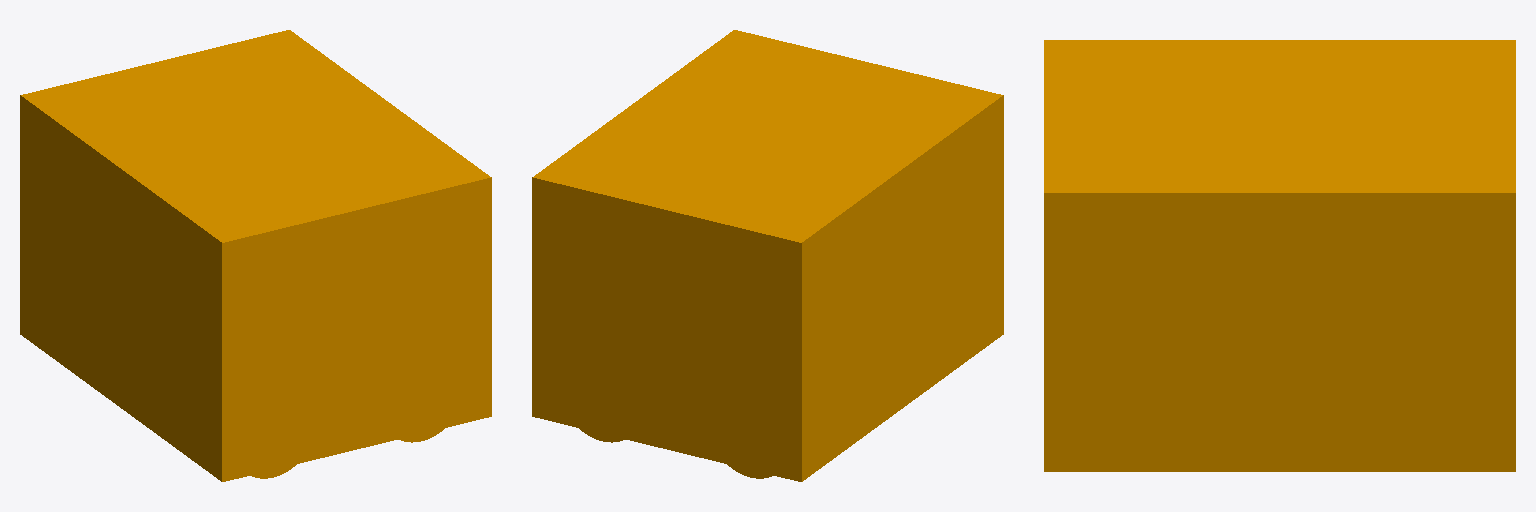
The robot description file, URDF, robot "mr_stabs_mk2":
<?xml version="1.0"?>
<robot name="mr_stabs_mk2">
  <link name="base_link">
    <inertial>
      <origin xyz="0.0 0 -0.004" rpy="0 0 0" />
      <mass value="4.2280000000e-01" />
      <inertia ixx="7.5028048089e-04" ixy="5.5791390000e-08" ixz="1.8346455500e-06"
        iyy="5.0764962881e-04" iyz="6.4056300000e-09" izz="1.1866097367e-03" />
    </inertial>
    <visual>
      <geometry>
        <mesh filename="meshes/chassis.obj" />
      </geometry>
    </visual>
  </link>

  <!-- Pitch stabilizer casters. With COM at (0,0,0) these bear ~zero normal
       force at equilibrium so friction drag is negligible. They only engage
       during pitch transients, damping oscillation. -->
  <link name="caster_front">
    <inertial>
      <mass value="0.001" />
      <inertia ixx="1e-8" ixy="0" ixz="0" iyy="1e-8" iyz="0" izz="1e-8" />
    </inertial>
    <collision>
      <geometry>
        <sphere radius="0.001" />
      </geometry>
    </collision>
  </link>
  <joint name="caster_front_joint" type="fixed">
    <parent link="base_link" />
    <child link="caster_front" />
    <origin xyz="0.08 0.0 -0.020" rpy="0 0 0" />
  </joint>

  <link name="caster_rear">
    <inertial>
      <mass value="0.001" />
      <inertia ixx="1e-8" ixy="0" ixz="0" iyy="1e-8" iyz="0" izz="1e-8" />
    </inertial>
    <collision>
      <geometry>
        <sphere radius="0.001" />
      </geometry>
    </collision>
  </link>
  <joint name="caster_rear_joint" type="fixed">
    <parent link="base_link" />
    <child link="caster_rear" />
    <origin xyz="-0.08 0.0 -0.020" rpy="0 0 0" />
  </joint>

  <link name="left_wheel">
    <inertial>
      <origin xyz="0.0000000000e+00 0.0000000000e+00 5.8000000000e-06" rpy="0 0 0" />
      <mass value="1.5000000000e-02" />
      <inertia ixx="1.8209689200e-06" ixy="3.7001500000e-09" ixz="-9.3613100000e-09"
        iyy="3.3246639100e-06" iyz="-3.7023600000e-09" izz="1.8209798600e-06" />
    </inertial>
    <visual>
      <geometry>
        <mesh filename="meshes/wheel.obj" />
      </geometry>
    </visual>
    <collision>
      <origin xyz="0 0 0" rpy="1.5707963267948966 0 0" />
      <geometry>
        <cylinder radius="2.5000000000e-02" length="1.2000000104e-02" />
      </geometry>
    </collision>
  </link>
  <joint name="left_wheel_joint" type="continuous">
    <parent link="base_link" />
    <child link="left_wheel" />
    <origin xyz="0.0000000000e+00 6.4000000000e-02 0.0000000000e+00" rpy="0 0 0" />
    <axis xyz="0 1 0" />
    <dynamics damping="0.1" friction="0.0" />
  </joint>

  <link name="right_wheel">
    <inertial>
      <origin xyz="0.0000000000e+00 0.0000000000e+00 5.8000000000e-06" rpy="0 0 0" />
      <mass value="1.5000000000e-02" />
      <inertia ixx="1.8209689200e-06" ixy="3.7001500000e-09" ixz="-9.3613100000e-09"
        iyy="3.3246639100e-06" iyz="-3.7023600000e-09" izz="1.8209798600e-06" />
    </inertial>
    <visual>
      <geometry>
        <mesh filename="meshes/wheel.obj" />
      </geometry>
    </visual>
    <collision>
      <origin xyz="0 0 0" rpy="1.5707963267948966 0 0" />
      <geometry>
        <cylinder radius="2.5000000000e-02" length="1.2000000104e-02" />
      </geometry>
    </collision>
  </link>
  <joint name="right_wheel_joint" type="continuous">
    <parent link="base_link" />
    <child link="right_wheel" />
    <origin xyz="0.0000000000e+00 -6.4000000000e-02 0.0000000000e+00" rpy="0 0 0" />
    <axis xyz="0 1 0" />
    <dynamics damping="0.1" friction="0.0" />
  </joint>
</robot>

--- What the picture shows (computed from the rendered views, not written in the file) ---
Views: 3 orthographic renders of the robot side by side, from view 1: azimuth 30°, elevation 25°; view 2: azimuth 150°, elevation 25°; view 3: azimuth 270°, elevation 25°.
Model mr_stabs_mk2 with 5 links and 4 joints (2 continuous, 2 fixed), rooted at base_link, posed all joints at 0.
Links seen in each view (by area): view 1: base_link; view 2: base_link; view 3: base_link.
Link boxes in pixels (left/top/right/bottom): base_link: left=20, top=30, right=491, bottom=481; base_link: left=532, top=30, right=1003, bottom=481; base_link: left=1044, top=40, right=1515, bottom=471.
Bounding box of the posed robot: 0.254 × 0.3302 × 0.2309 m (x, y, z).
Meshes: 2 distinct files referenced, 3 mesh visuals loaded (2 OBJ).
